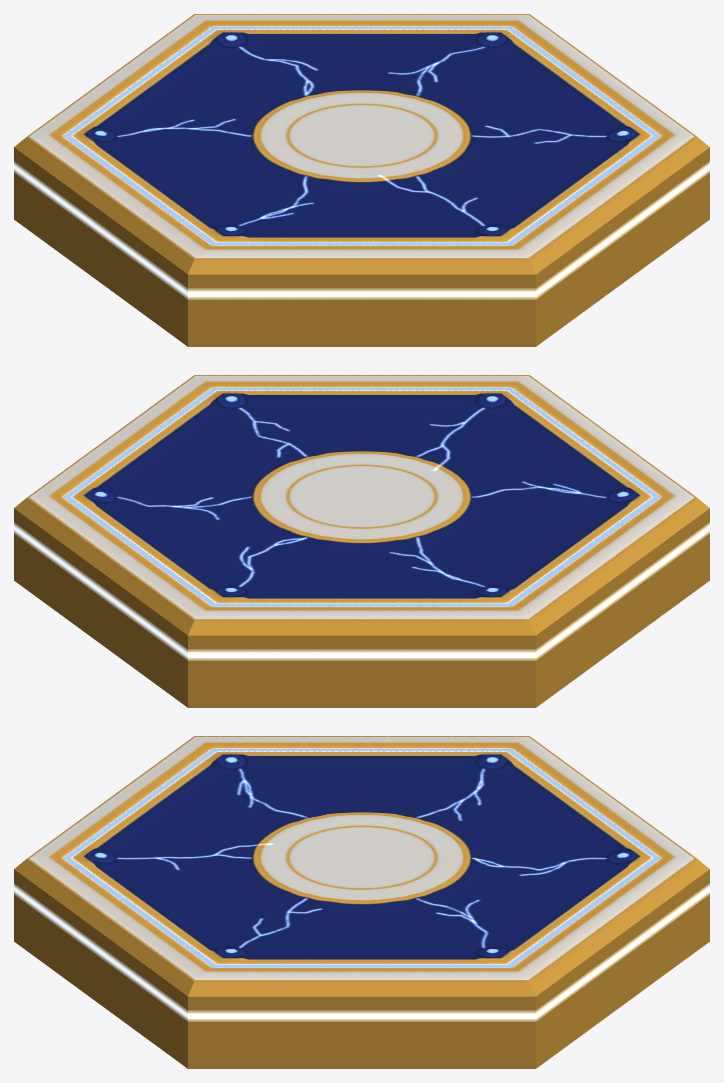
File: hex_celestial.fbx
The picture shows the model from 3 angles, top to bottom: view 1: azimuth 30°, elevation 25°; view 2: azimuth 150°, elevation 25°; view 3: azimuth 270°, elevation 25°; orthographic projection.
Parts seen in each view (by area): view 1: hex_celestial; view 2: hex_celestial; view 3: hex_celestial.
Part boxes in pixels (x1,y1,x2,y2): hex_celestial: (14,14,709,346); hex_celestial: (14,375,709,707); hex_celestial: (14,736,709,1068).
Size of the model in its own units: 2 by 0.317 by 2.31.
